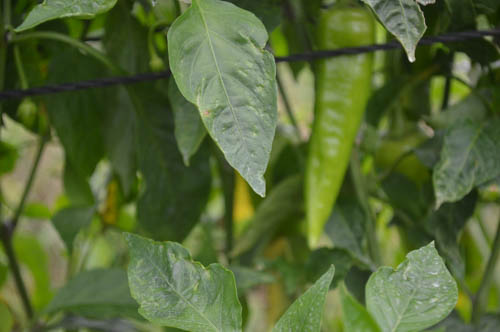ChiliPepper: (304, 7, 372, 251)
